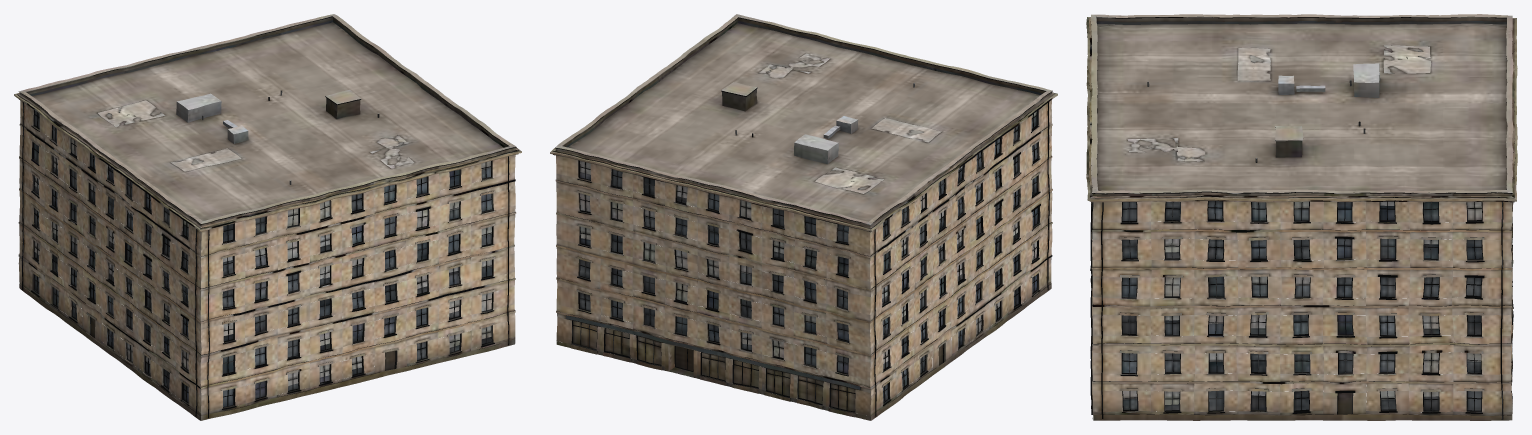
3 renders of one model, left to right at view 1: azimuth 30°, elevation 25°; view 2: azimuth 150°, elevation 25°; view 3: azimuth 270°, elevation 25°, orthographic. The views are drawn at different scales.
Parts seen in each view (by area): view 1: building; view 2: building; view 3: building.
Boxes of the visible parts, x1,y1,x2,y2 form: building: (14, 14, 521, 420); building: (550, 14, 1057, 420); building: (1086, 14, 1517, 420).
Bounding box in the file's own units: 32.98 × 20.09 × 32.94.
Materials: 1 (1 with a texture image).
